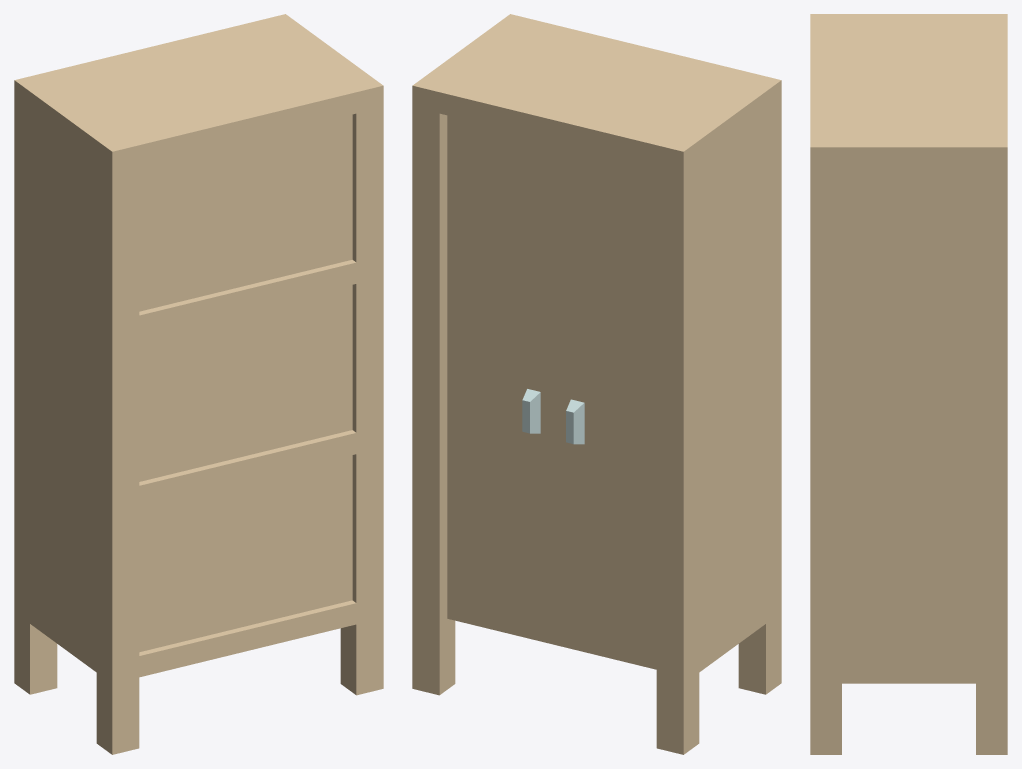
Rendered from bookcaseClosedDoors.glb.
The picture shows the model from 3 angles, left to right: view 1: azimuth 30°, elevation 25°; view 2: azimuth 150°, elevation 25°; view 3: azimuth 270°, elevation 25°; orthographic projection.
Visible parts, largest first — view 1: bookcaseClosedDoors; view 2: bookcaseClosedDoors; view 3: bookcaseClosedDoors.
Part boxes in pixels (box(x1,y1,x2,y2)): bookcaseClosedDoors: box(14, 14, 383, 754); bookcaseClosedDoors: box(412, 14, 781, 754); bookcaseClosedDoors: box(810, 14, 1007, 754).
Size of the model in its own units: 4 by 8.5 by 2.5.
